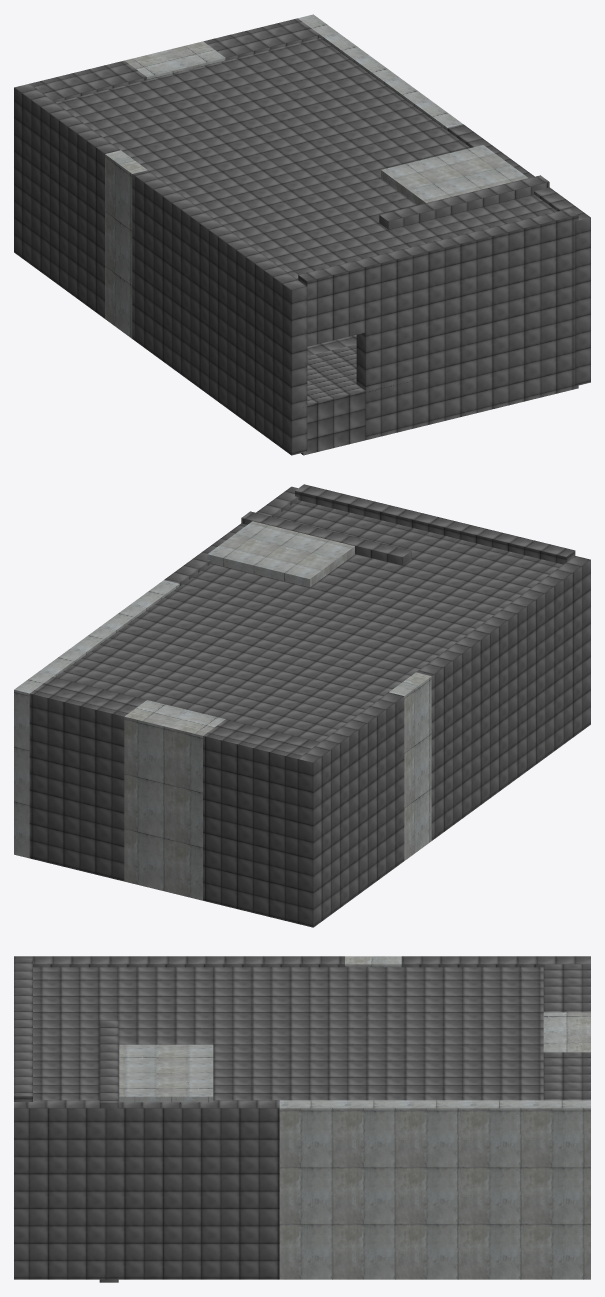
File: Level_18.fbx
The picture shows the model from 3 angles, top to bottom: view 1: azimuth 30°, elevation 25°; view 2: azimuth 150°, elevation 25°; view 3: azimuth 270°, elevation 25°; orthographic projection. The views are drawn at different scales.
Visible parts, largest first — view 1: NoTeleport.007, Wall.008; view 2: NoTeleport.007, Wall.008; view 3: NoTeleport.007, Wall.008.
Part boxes in pixels (x1,y1,x2,y2): NoTeleport.007: (14, 18, 590, 455); Wall.008: (105, 14, 528, 338); NoTeleport.007: (29, 484, 590, 927); Wall.008: (14, 521, 431, 900); NoTeleport.007: (14, 956, 590, 1282); Wall.008: (119, 956, 590, 1279).
Bounding box in the file's own units: 19 × 30.5 × 10.5.
